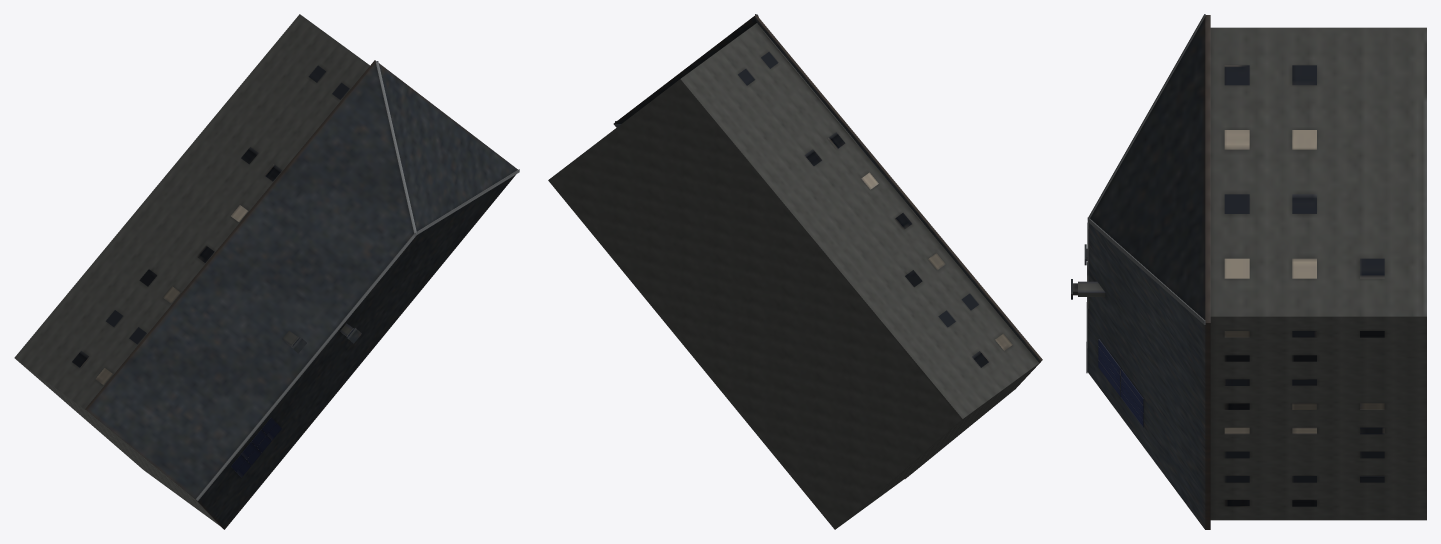
File: house_b0096.obj
3 renders of one model, left to right at view 1: azimuth 30°, elevation 25°; view 2: azimuth 150°, elevation 25°; view 3: azimuth 270°, elevation 25°, orthographic. The views are drawn at different scales.
Visible parts, largest first — view 1: house_b0096; view 2: house_b0096; view 3: house_b0096.
Boxes of the visible parts, x1,y1,x2,y2 form: house_b0096: (14, 14, 519, 529); house_b0096: (548, 14, 1042, 529); house_b0096: (1071, 14, 1426, 529).
Bounding box in the file's own units: 31.97 × 30.47 × 15.8.
Materials: 1 (1 with a texture image).
